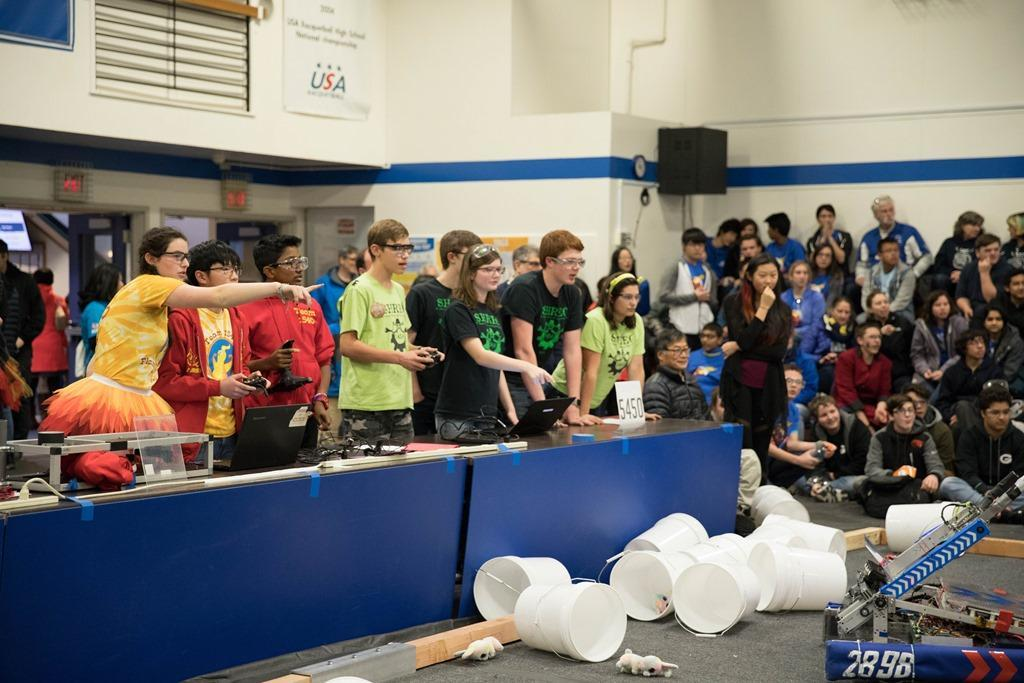robot: (814, 448, 1024, 683)
